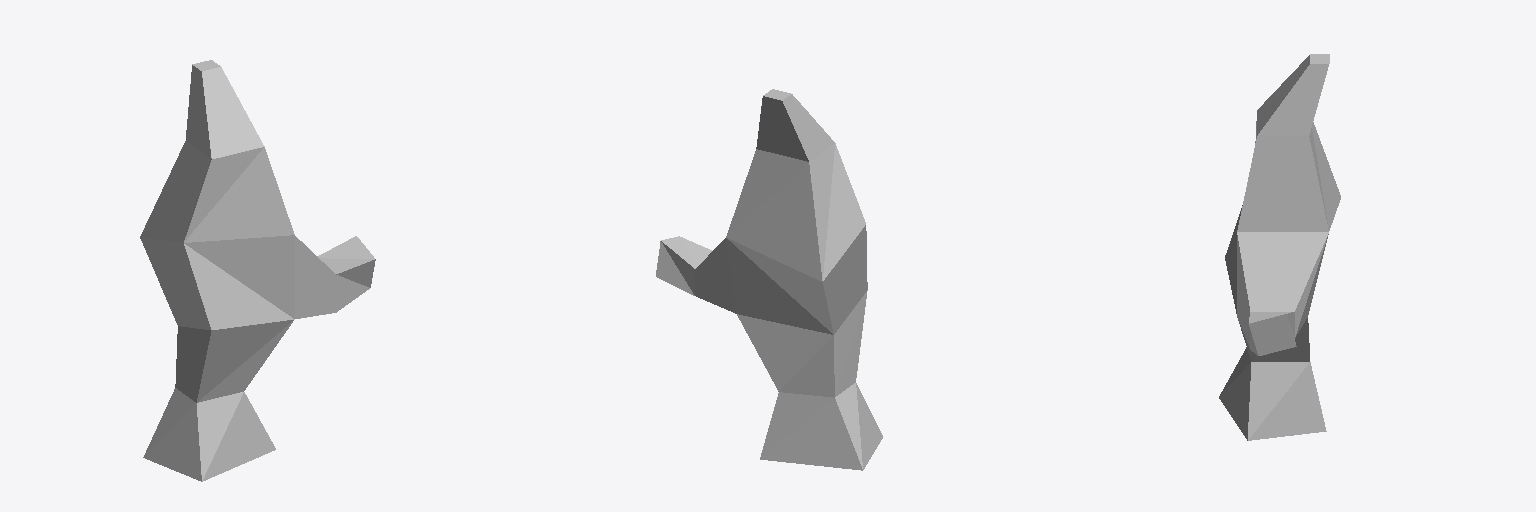
File: Pillar4.obj
3 renders of one model, left to right at view 1: azimuth 30°, elevation 25°; view 2: azimuth 150°, elevation 25°; view 3: azimuth 270°, elevation 25°, orthographic.
Visible parts, largest first — view 1: Pillar4; view 2: Pillar4; view 3: Pillar4.
Boxes of the visible parts, x1=… form: Pillar4: x1=140, y1=60, x2=375, y2=481; Pillar4: x1=656, y1=89, x2=882, y2=470; Pillar4: x1=1219, y1=54, x2=1340, y2=440.
Bounding box in the file's own units: 10.82 × 18.17 × 5.53.